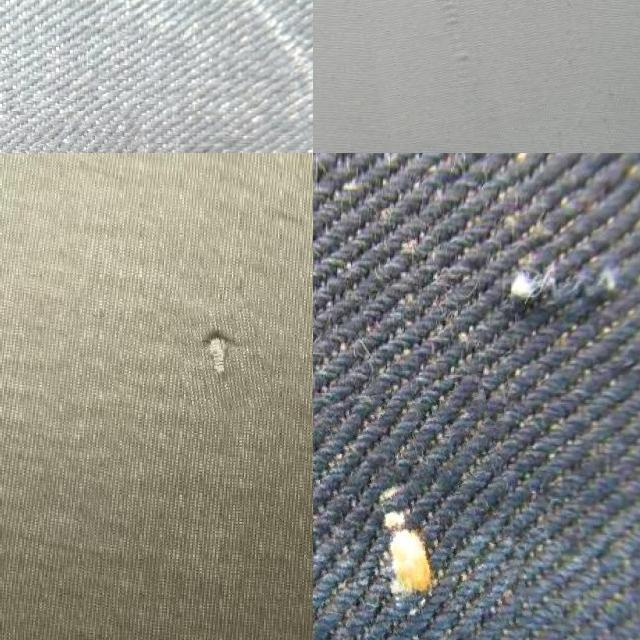other: (174, 303, 272, 419)
stains: (313, 384, 521, 640), (315, 0, 583, 142), (436, 205, 640, 340)
